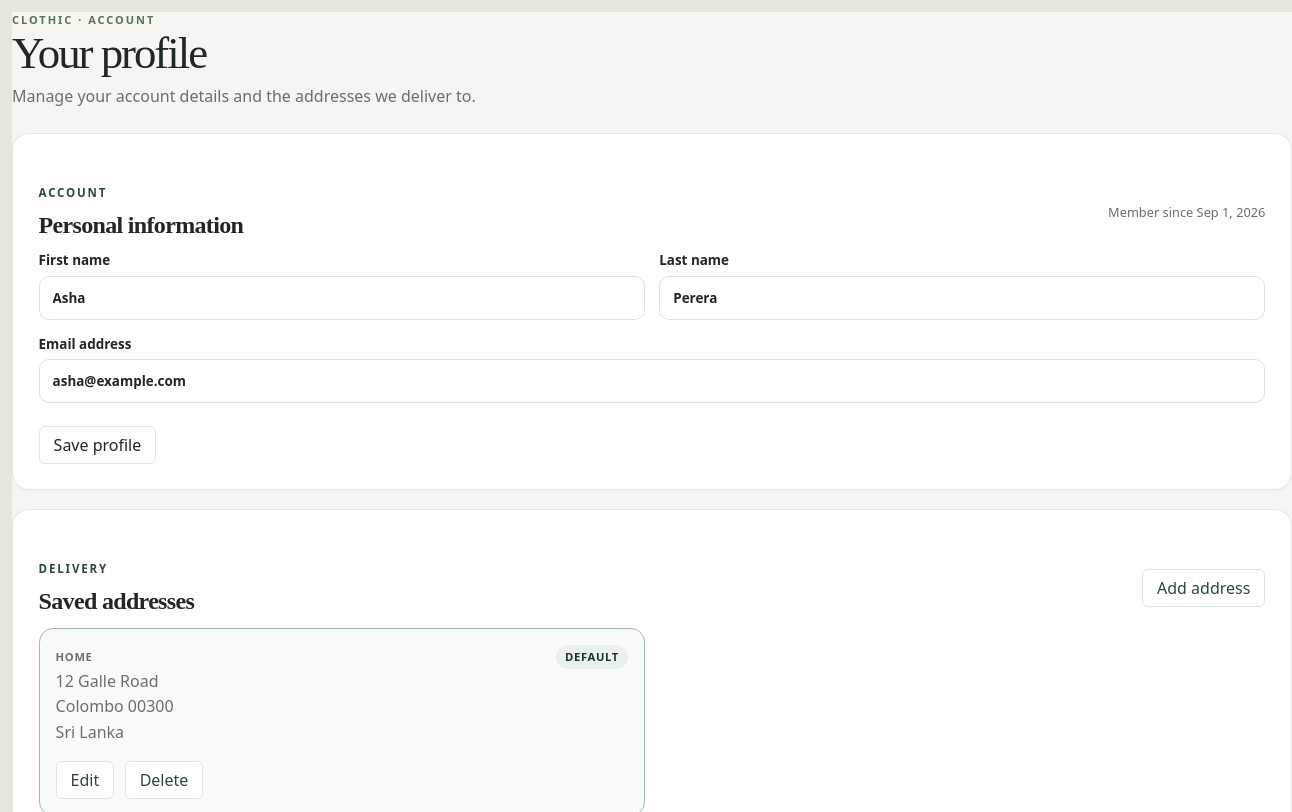
Test: ProfilePage › saves trimmed profile details
Replace the text in the field labelled "First name" with "  Ashani  " at (342, 298), box 39,276 -> 645,320
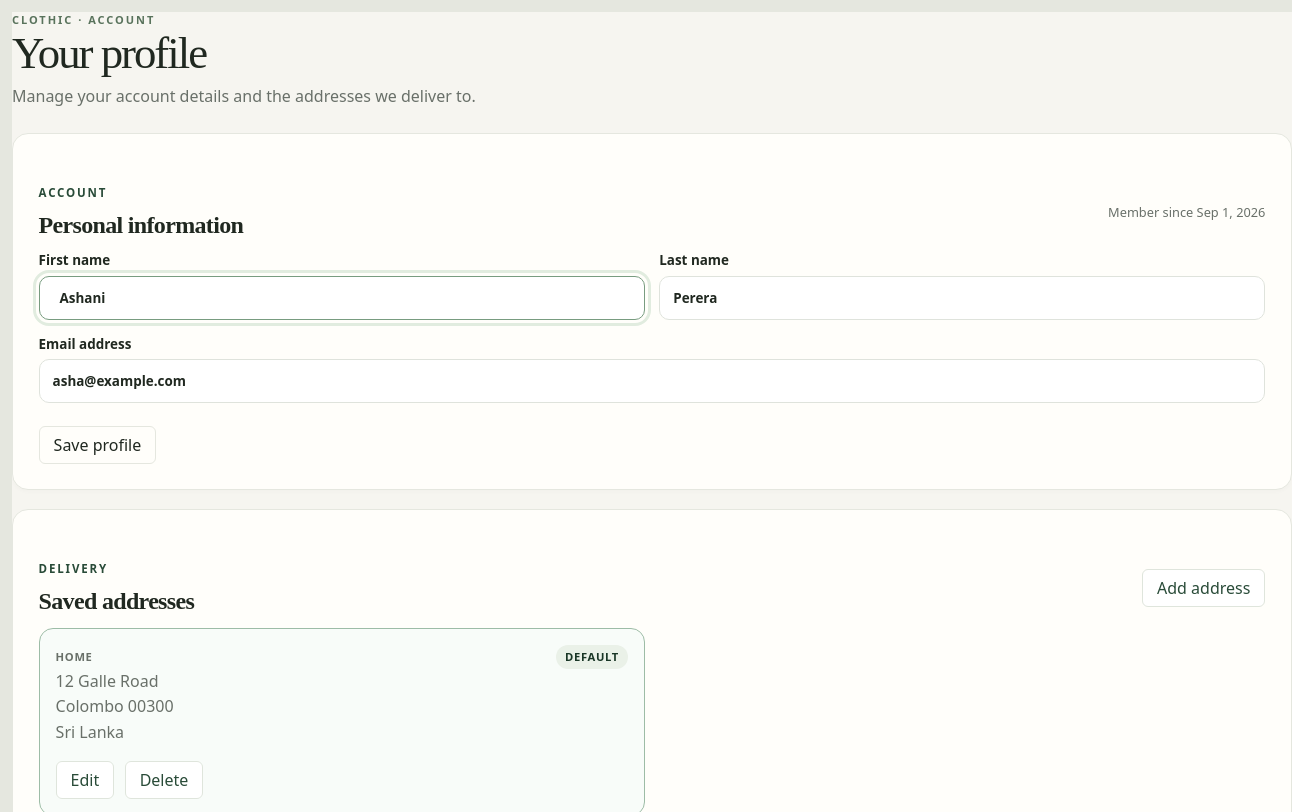
Click the button "Save profile".
click(97, 445)  # box 39,426 -> 156,464
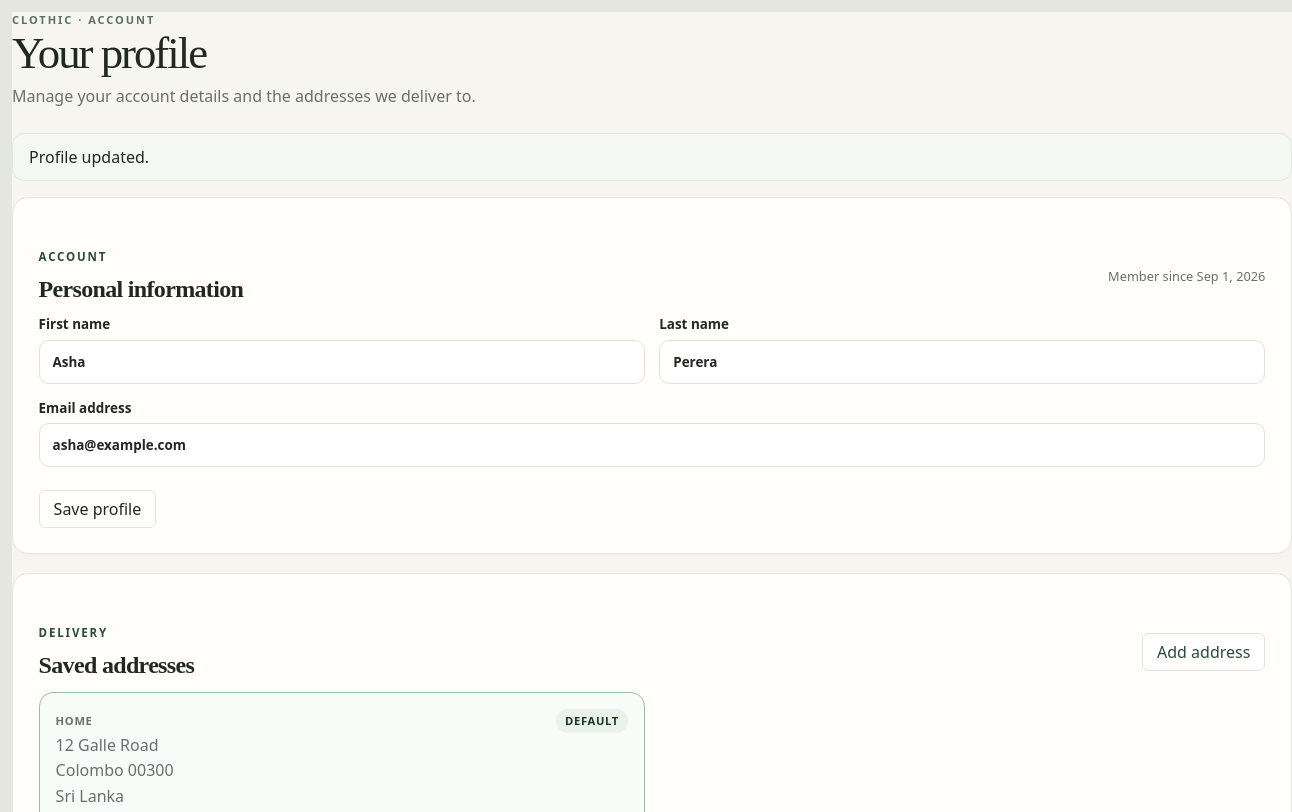
Expected: the message reads "Profile updated.", 29,146 -> 149,168
